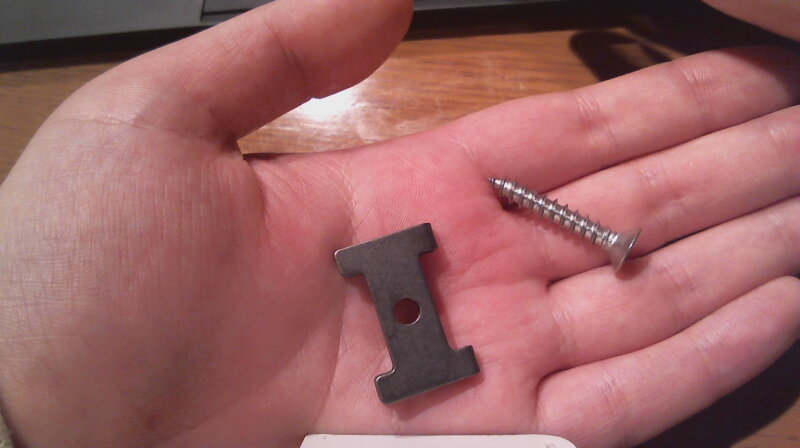O002: (328, 220, 485, 406)
S001: (476, 173, 645, 273)
